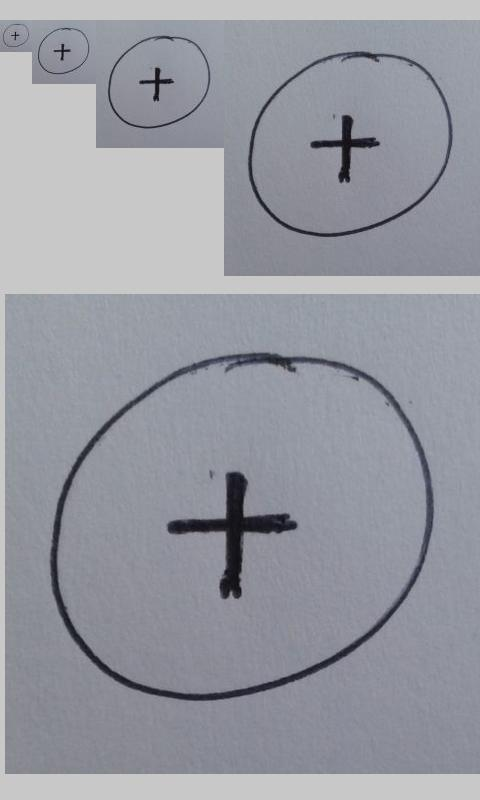button: (46, 350, 437, 705), (247, 50, 455, 239), (107, 35, 211, 130), (37, 27, 90, 75), (2, 23, 30, 48)
